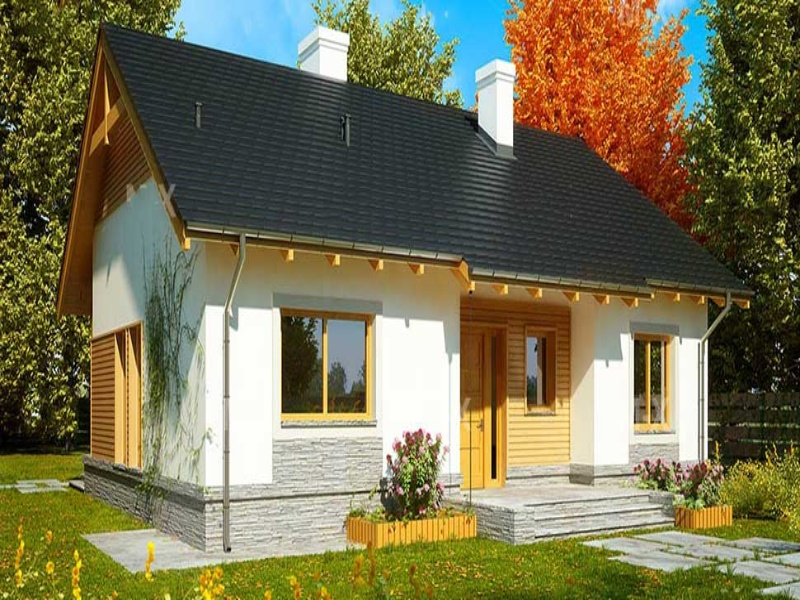window: (271, 294, 374, 420), (619, 327, 679, 433), (518, 323, 559, 419)
